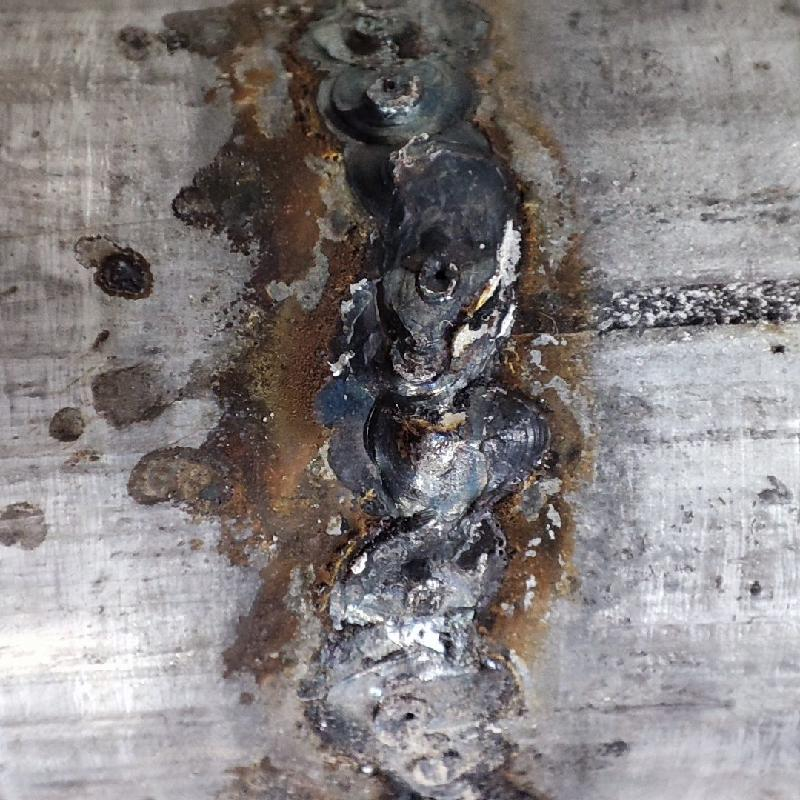Not_fully_soldered: (308, 630, 522, 799)
Surface_pores: (416, 255, 471, 305), (393, 695, 427, 738)
wrong_size: (300, 2, 533, 625)
